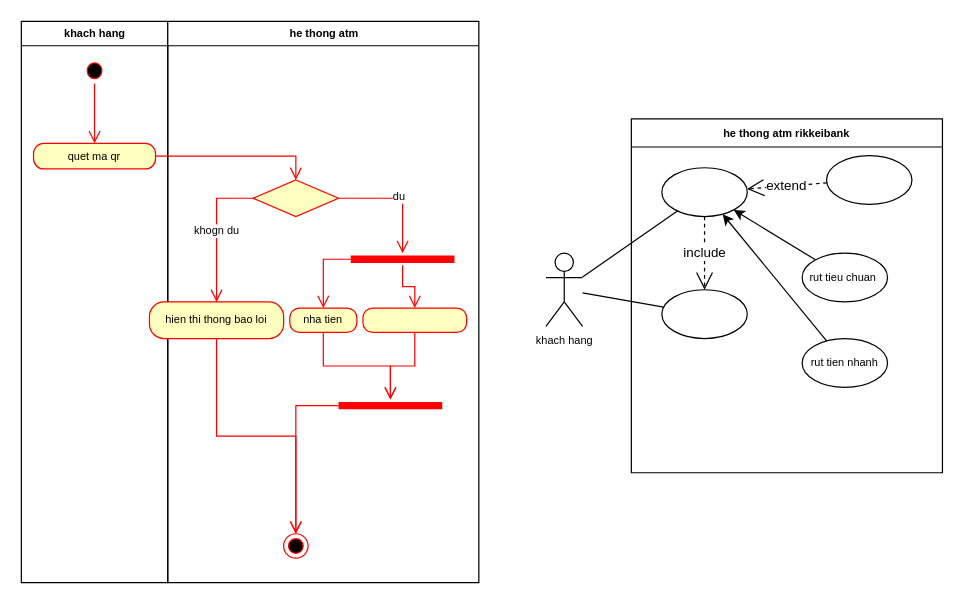
Image size: 964x604. Some labels were removed from this diagram. The box of each missing label's shape, as (x1, y1, x2, y2) in pixels:
dang nhap: (661, 289, 747, 339)
in hoa don: (825, 154, 912, 204)
kiem tra so du: (252, 179, 339, 217)
rut tien: (661, 167, 747, 217)
thong bao sms: (362, 307, 467, 332)
